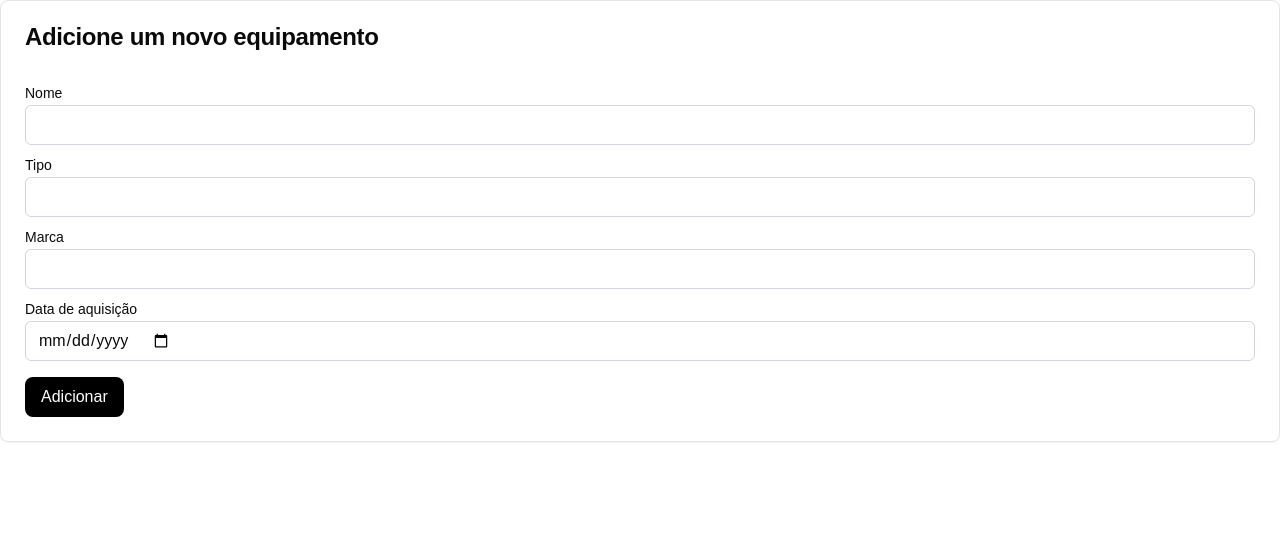
it: Form New Equipment › should render errors when inputs are empty
Click the button "Adicionar" at (74, 397), box [25,377,124,417]
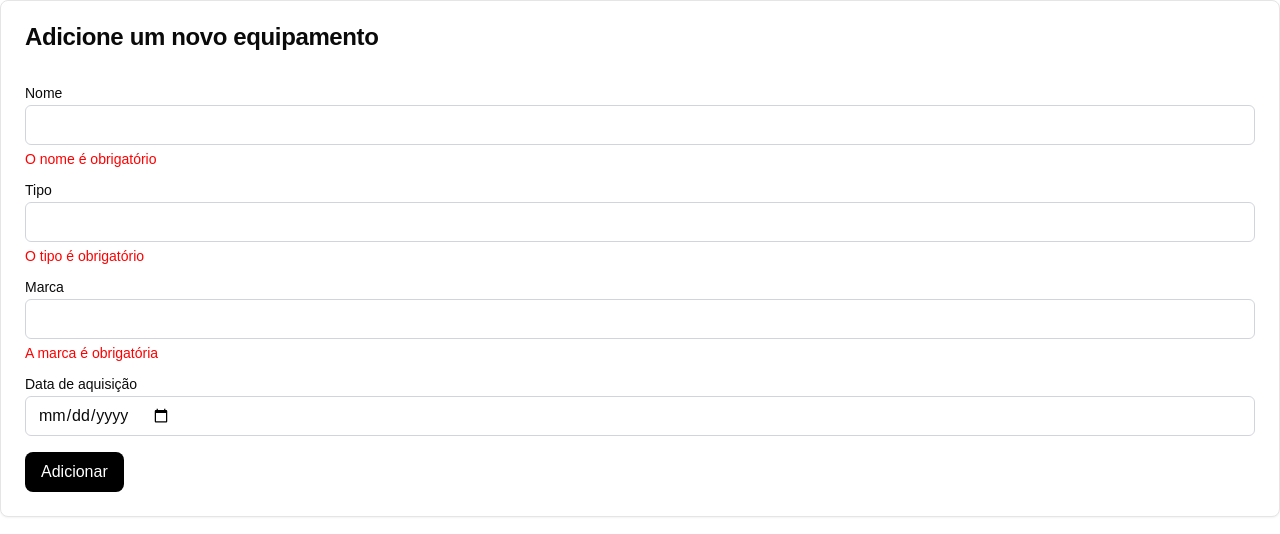
Check: the text "O nome é obrigatório" is shown, box [25,151,156,167]
Check: the text "A marca é obrigatória" is shown, box [25,345,158,361]
Check: the text "O tipo é obrigatório" is shown, box [25,248,144,264]
